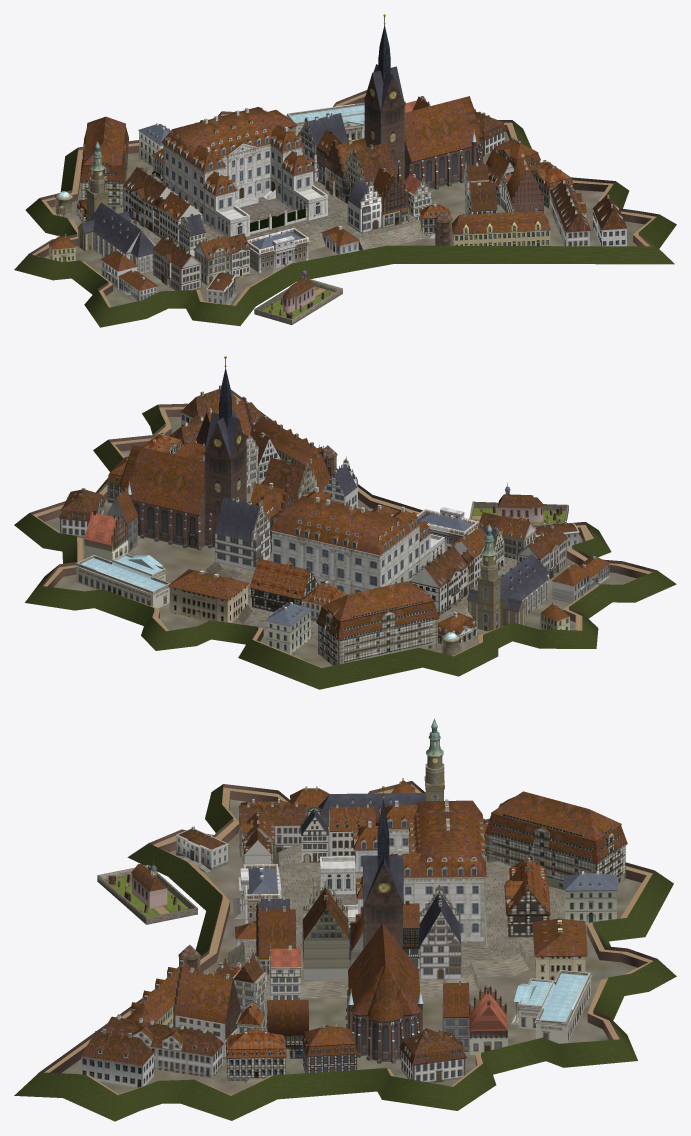
Rendered from SM_City.fbx.
3 views of the same model, one above another, from view 1: azimuth 30°, elevation 25°; view 2: azimuth 150°, elevation 25°; view 3: azimuth 270°, elevation 25° (orthographic). The views are drawn at different scales.
Visible parts, largest first — view 1: Object_6, Object_4, Object_2, Object_5, Object_7, Object_3; view 2: Object_6, Object_2, Object_7, Object_4, Object_3, Object_5; view 3: Object_6, Object_2, Object_7, Object_3, Object_4, Object_5.
Boxes of the visible parts, x1,y1,x2,y2 form: Object_6: (14,90,676,327); Object_4: (161,107,409,239); Object_2: (77,108,626,300); Object_5: (364,14,483,189); Object_7: (55,97,509,324); Object_3: (77,102,573,273); Object_6: (14,385,676,689); Object_2: (58,386,595,665); Object_7: (84,441,568,655); Object_4: (269,445,444,594); Object_3: (59,431,549,629); Object_5: (119,356,247,550); Object_6: (14,778,676,1121); Object_2: (102,776,627,1085); Object_7: (97,810,587,1063); Object_3: (226,718,592,1083); Object_4: (256,800,486,957); Object_5: (345,786,423,1063).
Bounding box in the file's own units: 27.34 × 8.5 × 23.01.
Materials: 1 (1 with a texture image).
